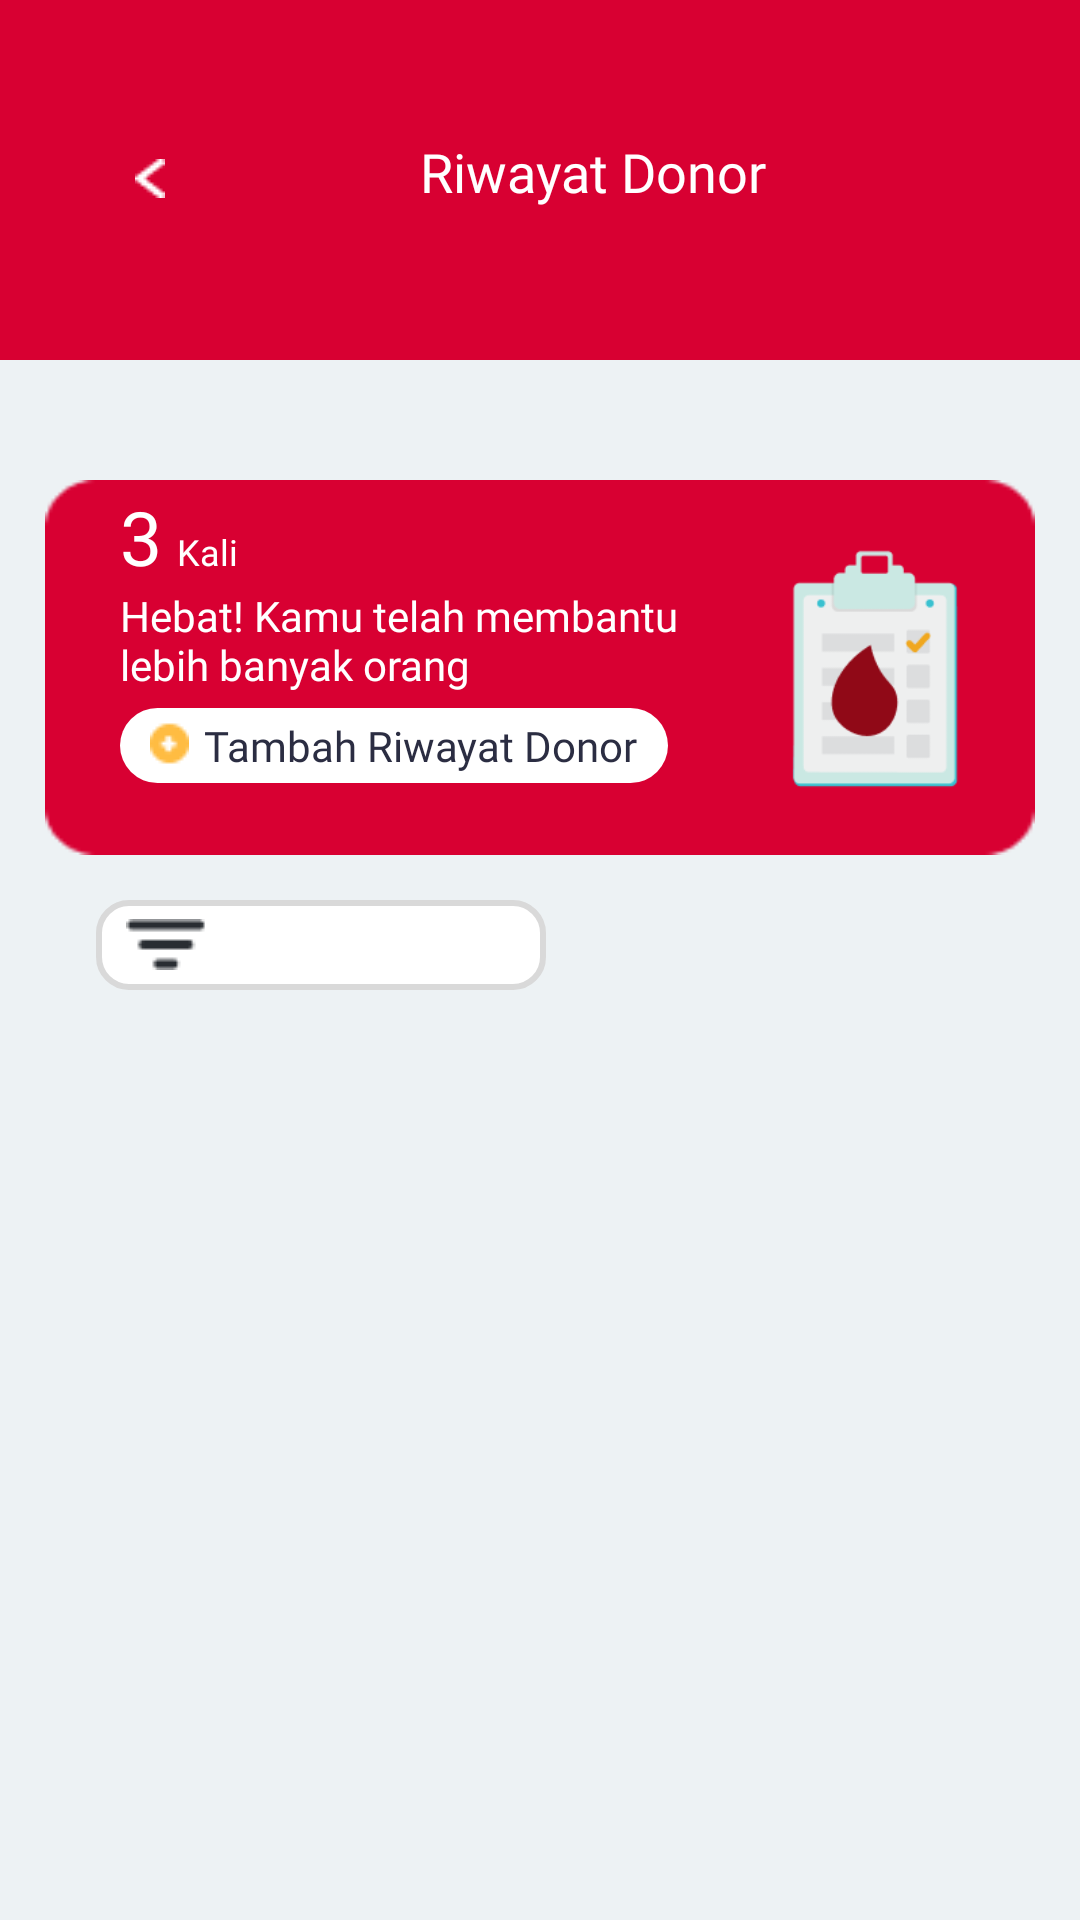

Where icons sit on this 1080px×1920px app screen, as [left=x1, top=y1, right=x2, bottom=y2]:
back: [left=135, top=159, right=165, bottom=198]
